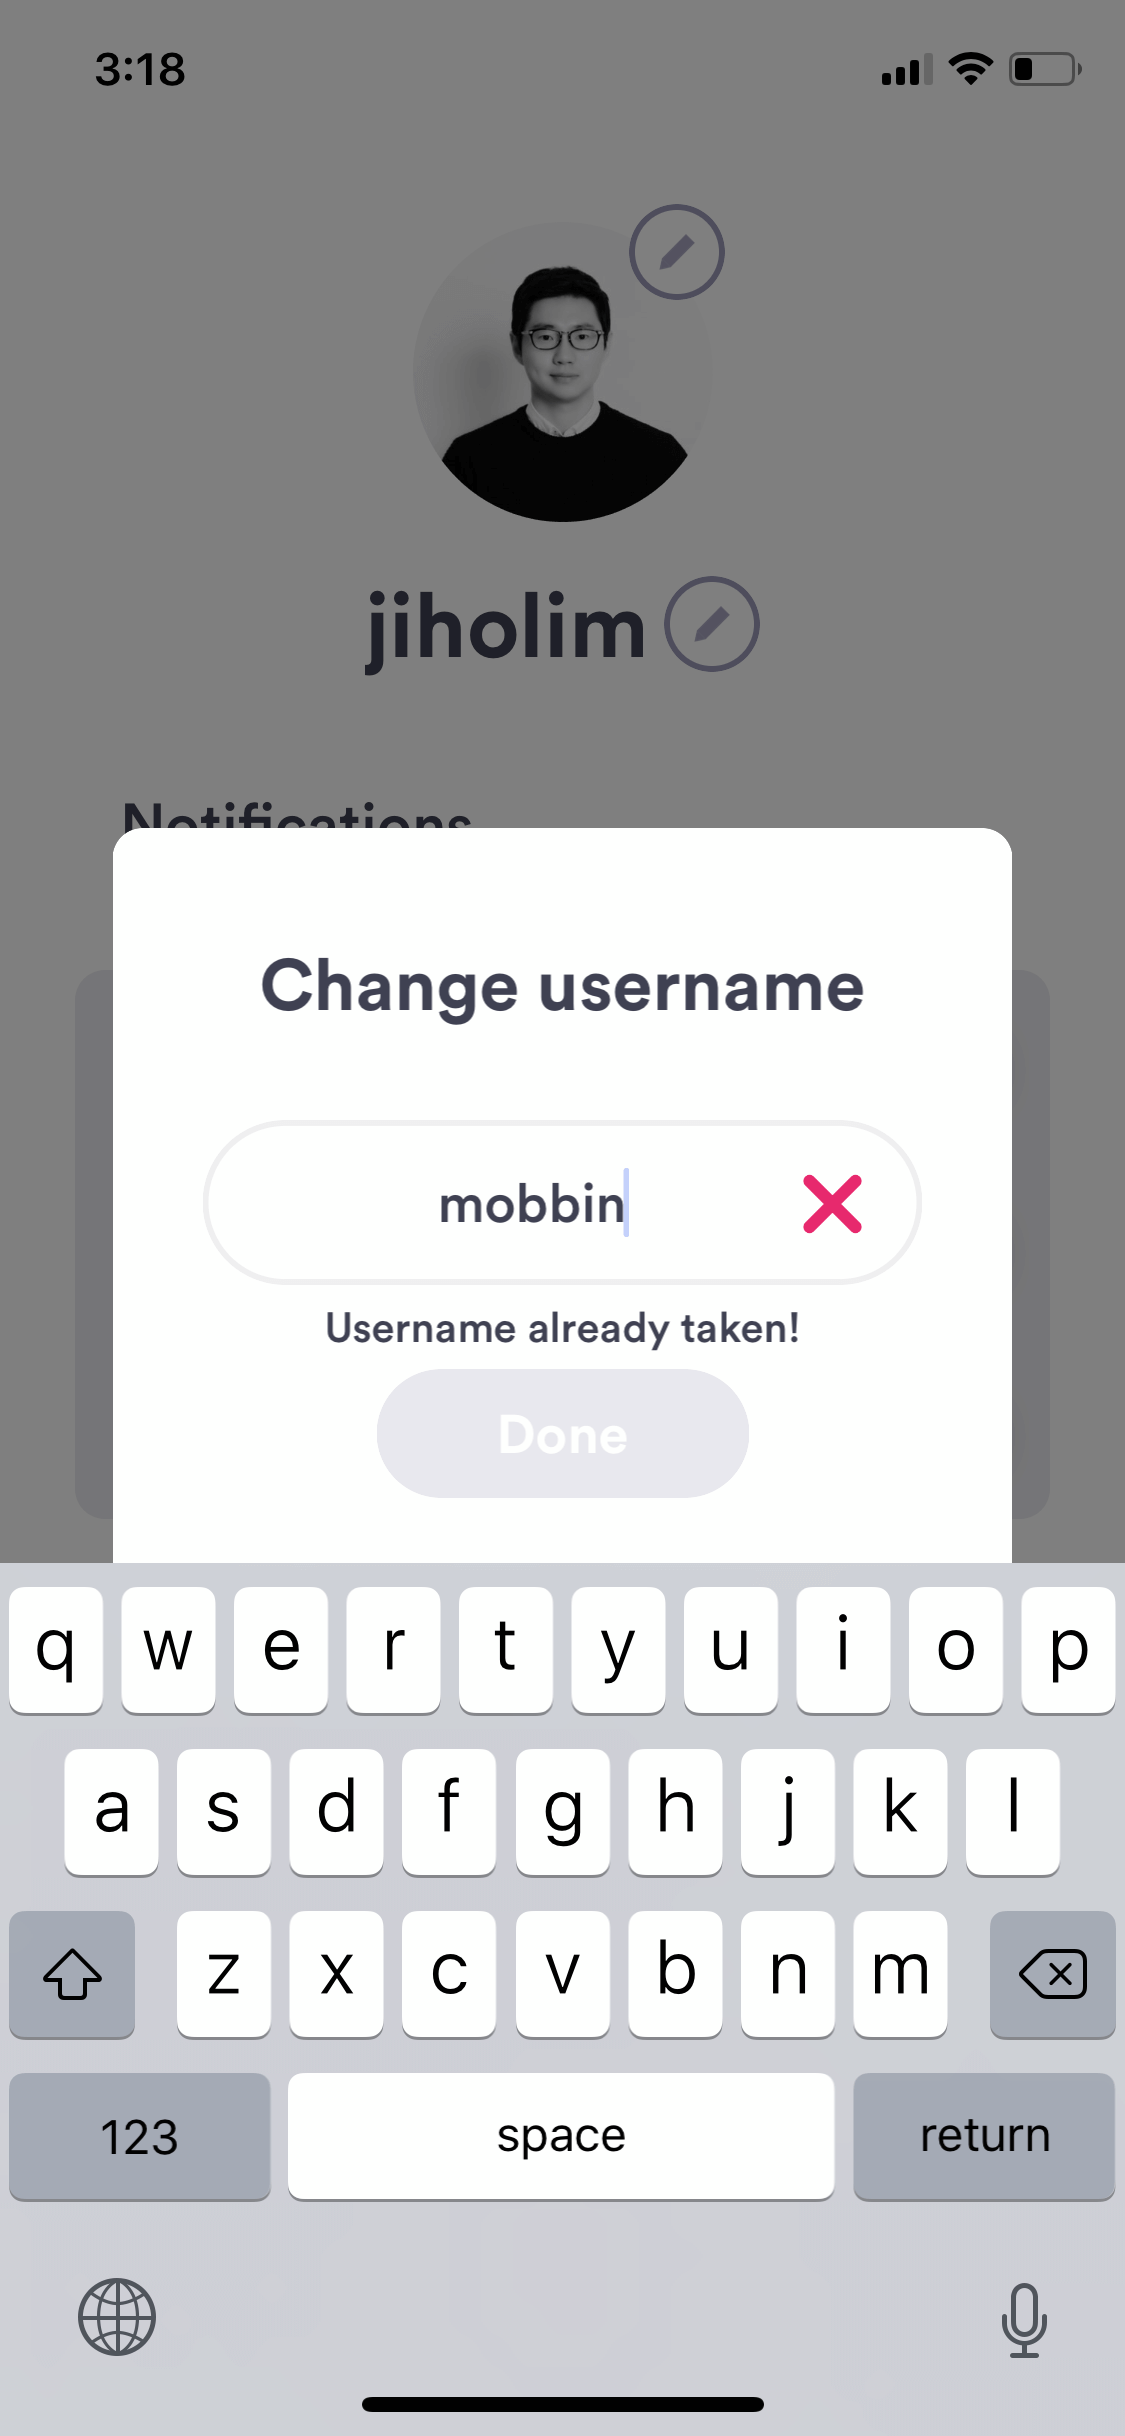Buttons: (368, 1362, 761, 1505), (660, 558, 786, 690)
Text Fields: (190, 1112, 932, 1300)
